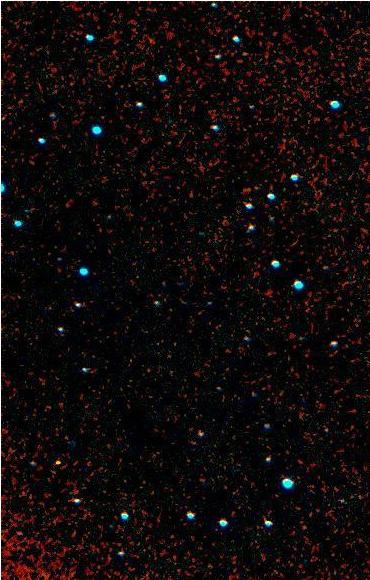star: (46, 446, 76, 476)
